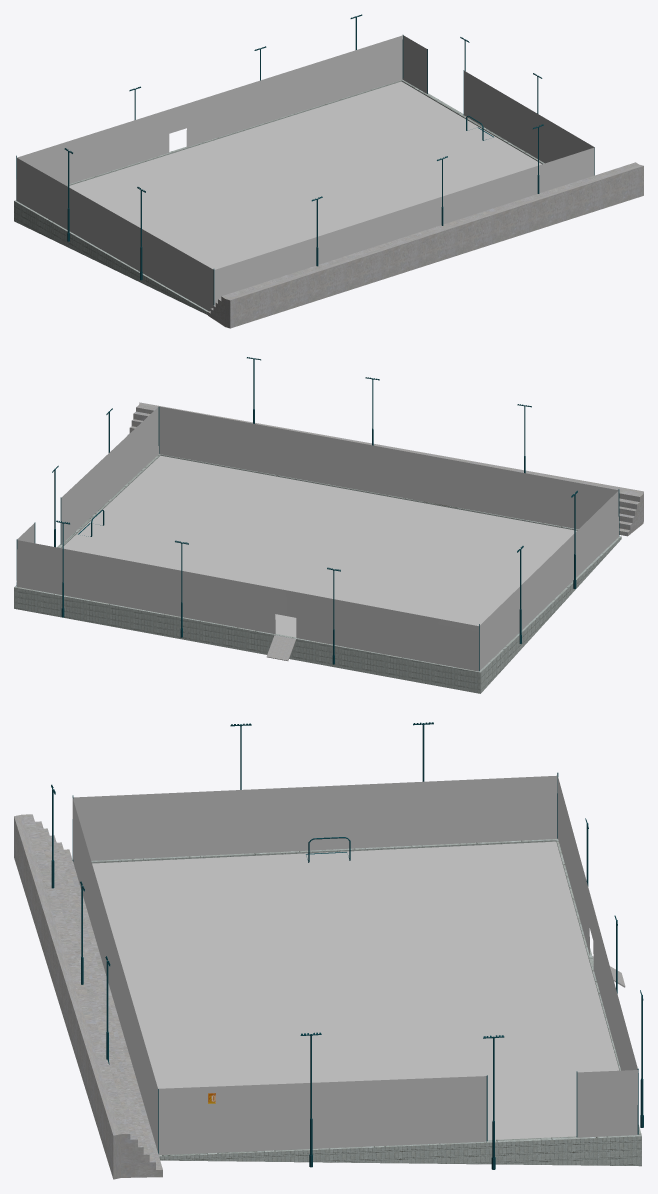
Rendered from cancha_corregida.fbx.
3 views of the same model, one above another, from view 1: azimuth 30°, elevation 25°; view 2: azimuth 150°, elevation 25°; view 3: azimuth 270°, elevation 25° (orthographic). The views are drawn at different scales.
Parts seen in each view (by area): view 1: polySurface2443, polySurface3011, polySurface2444; view 2: polySurface2443, polySurface3011, polySurface2444, pCube56; view 3: polySurface2443, polySurface3011, polySurface2444.
Boxes of the visible parts, x1,y1,x2,y2 form: polySurface2443: (14, 80, 544, 314); polySurface3011: (16, 35, 594, 311); polySurface2444: (208, 162, 643, 328); polySurface2443: (14, 454, 621, 693); polySurface3011: (16, 406, 618, 671); polySurface2444: (127, 402, 643, 536); pCube56: (266, 635, 295, 660); polySurface2443: (91, 839, 641, 1166); polySurface3011: (72, 775, 638, 1155); polySurface2444: (14, 814, 162, 1179).
Size of the model in its own units: 1224 by 288 by 953.
